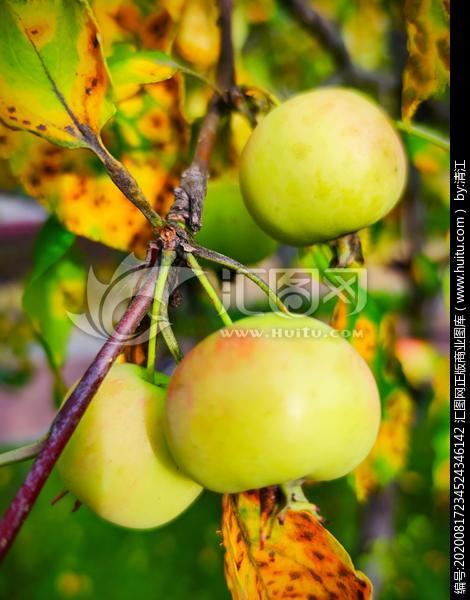apple: (161, 314, 381, 491), (239, 87, 407, 244), (55, 357, 202, 530)
